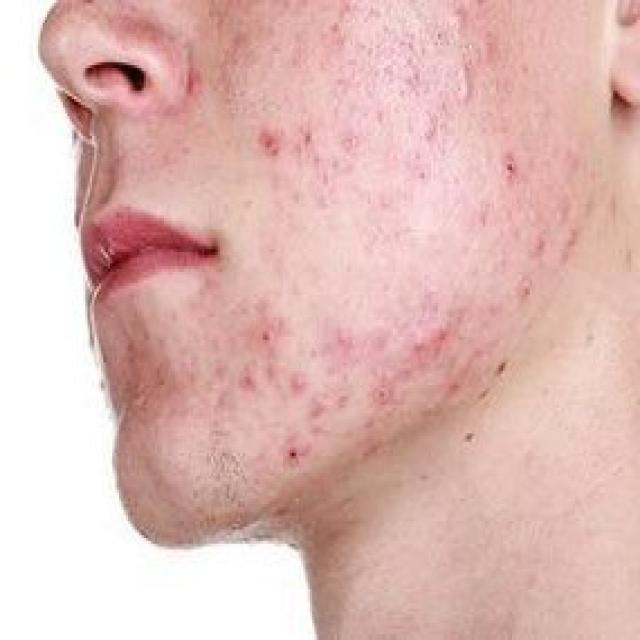Acne: (182, 0, 570, 470)
